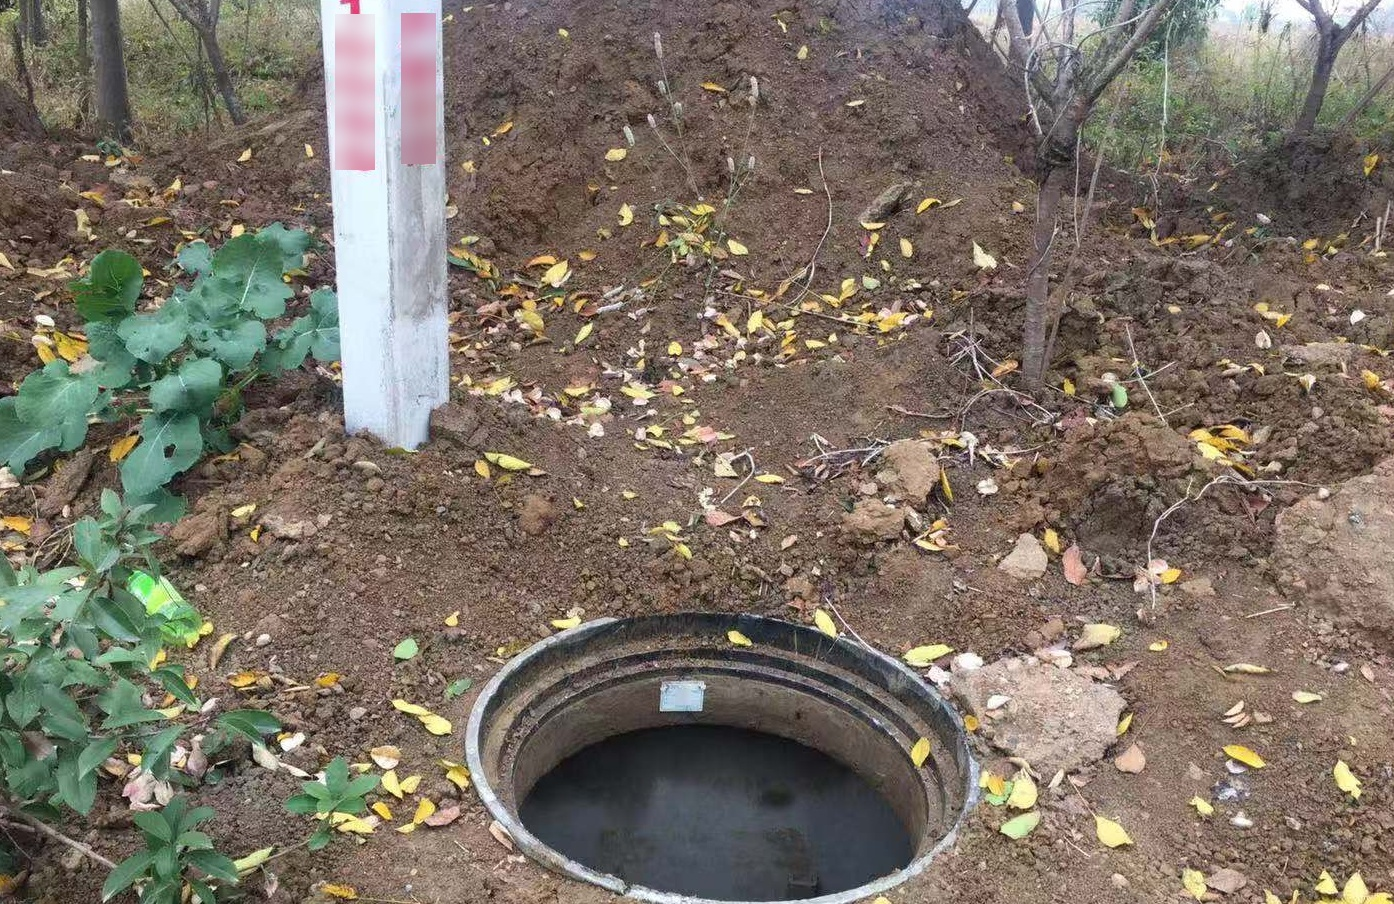well: (465, 607, 980, 904)
